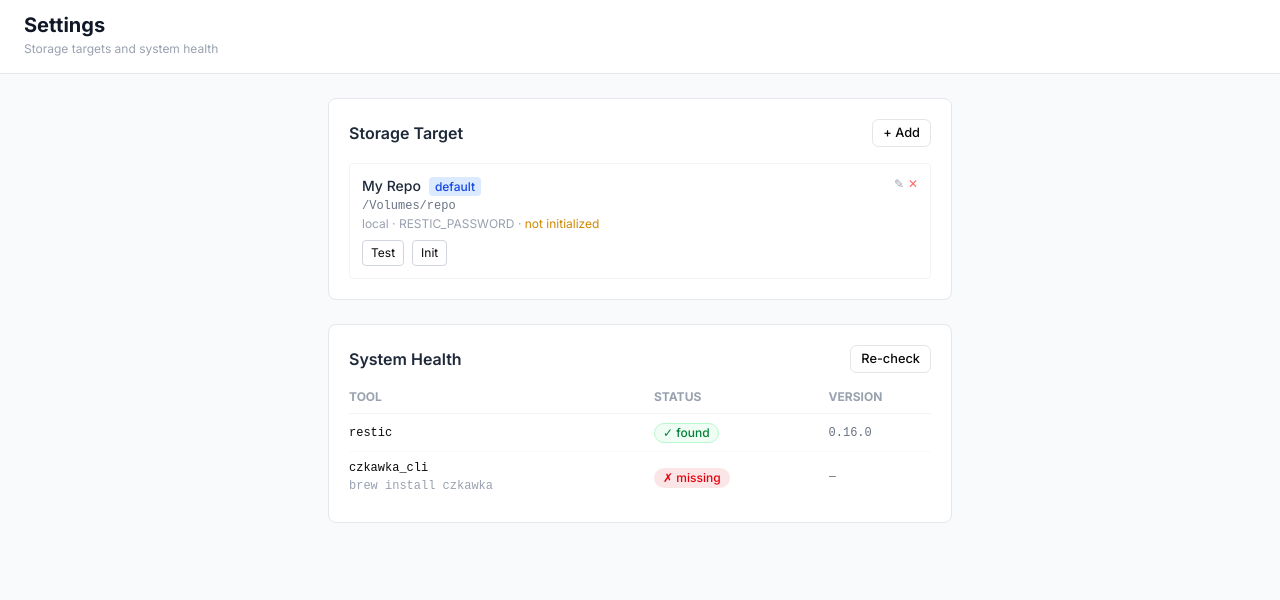
Test: Settings page › shows test result after test
Click the button "Test".
click(383, 253)  # box [362,240,404,266]
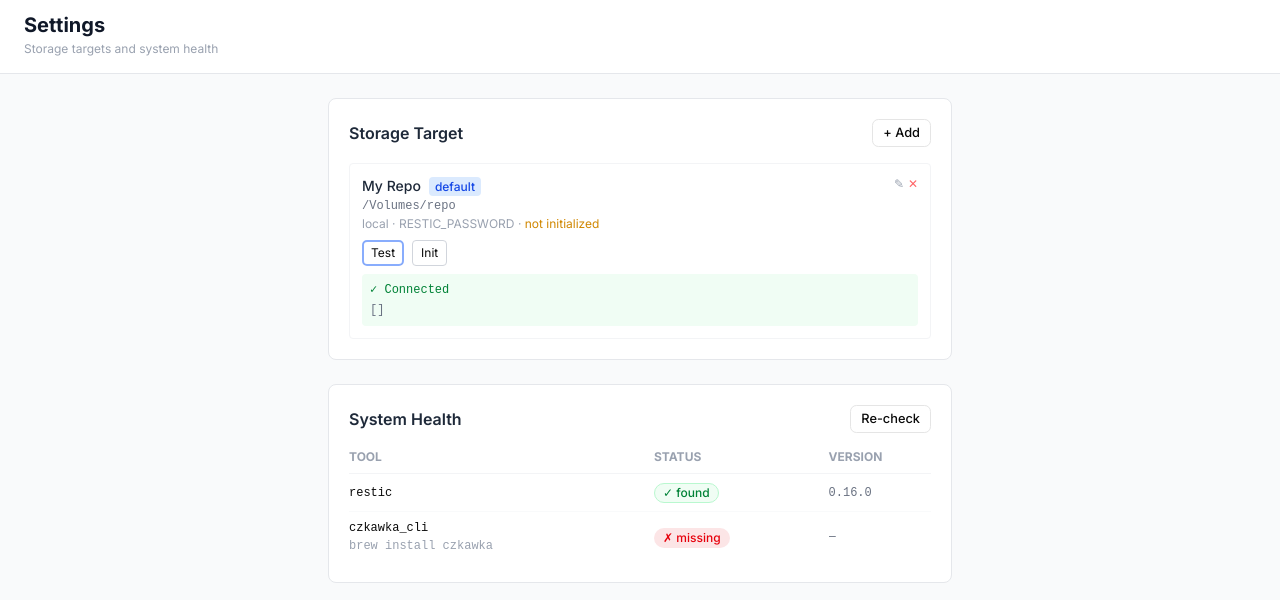
Expected: the text "✓ Connected []" is shown, [362,274,918,326]
